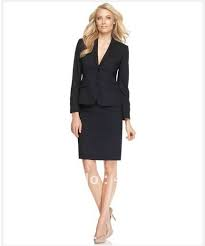F_tailored skirt: (71, 101, 129, 165)
